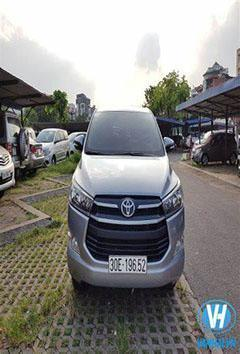car: (58, 96, 207, 312), (191, 116, 234, 191)
